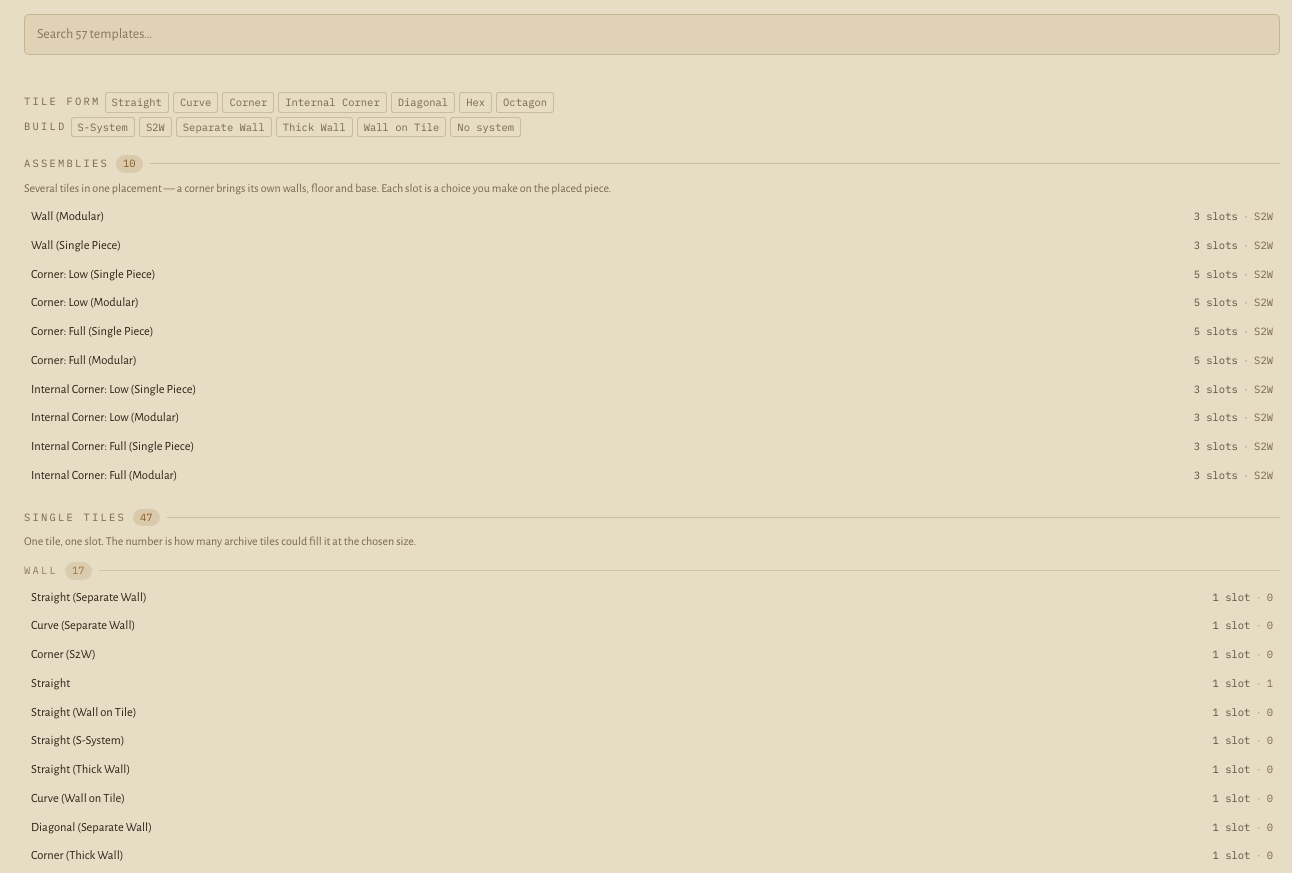
Test case: the palette › disarms when the armed row is pressed again
Click the button "Straight (Separate Wall) 1 slot 0".
click(89, 597)  # box [24, 584, 1280, 610]
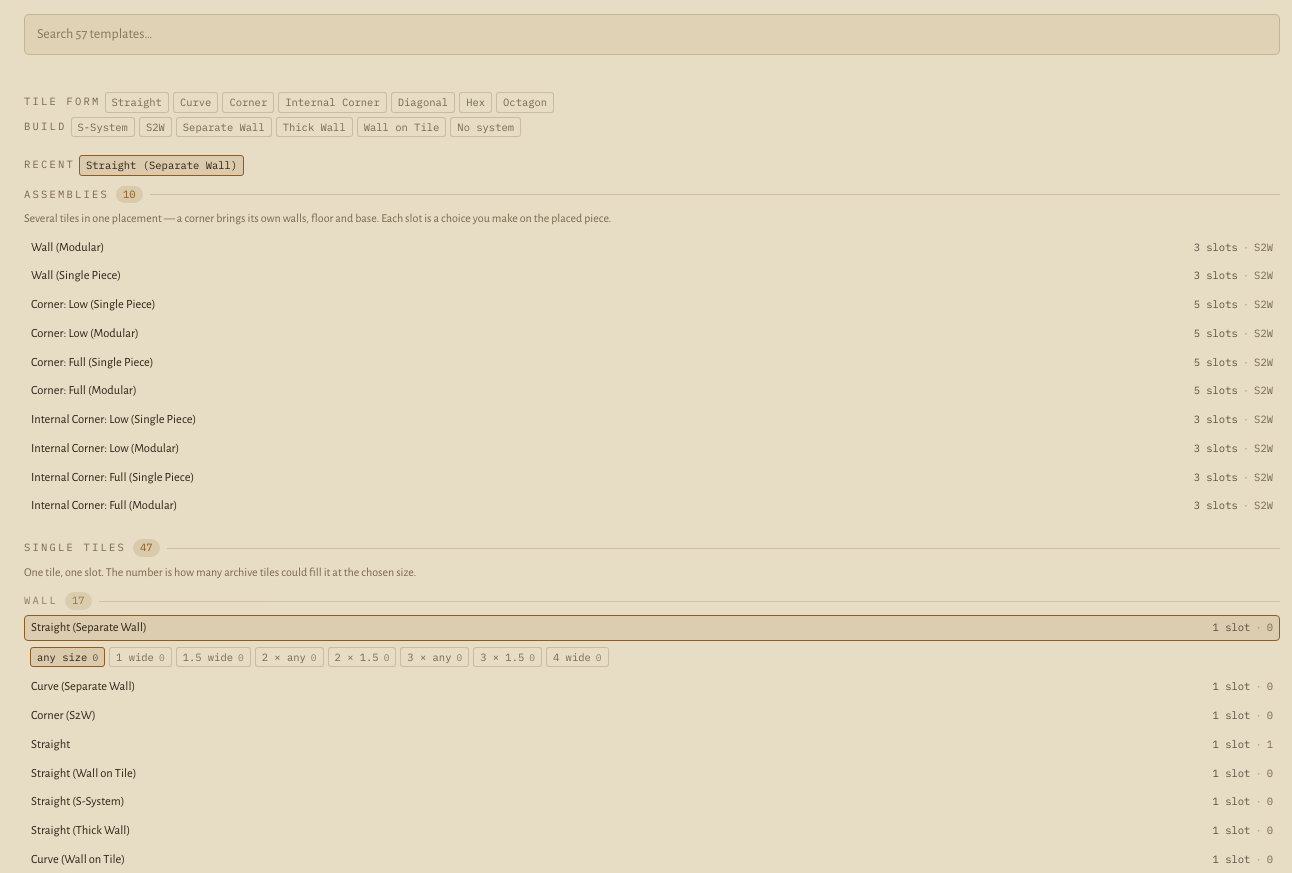
Click the button "Straight (Separate Wall) 1 slot 0".
click(89, 628)  # box [24, 615, 1280, 641]
(page scrolled)
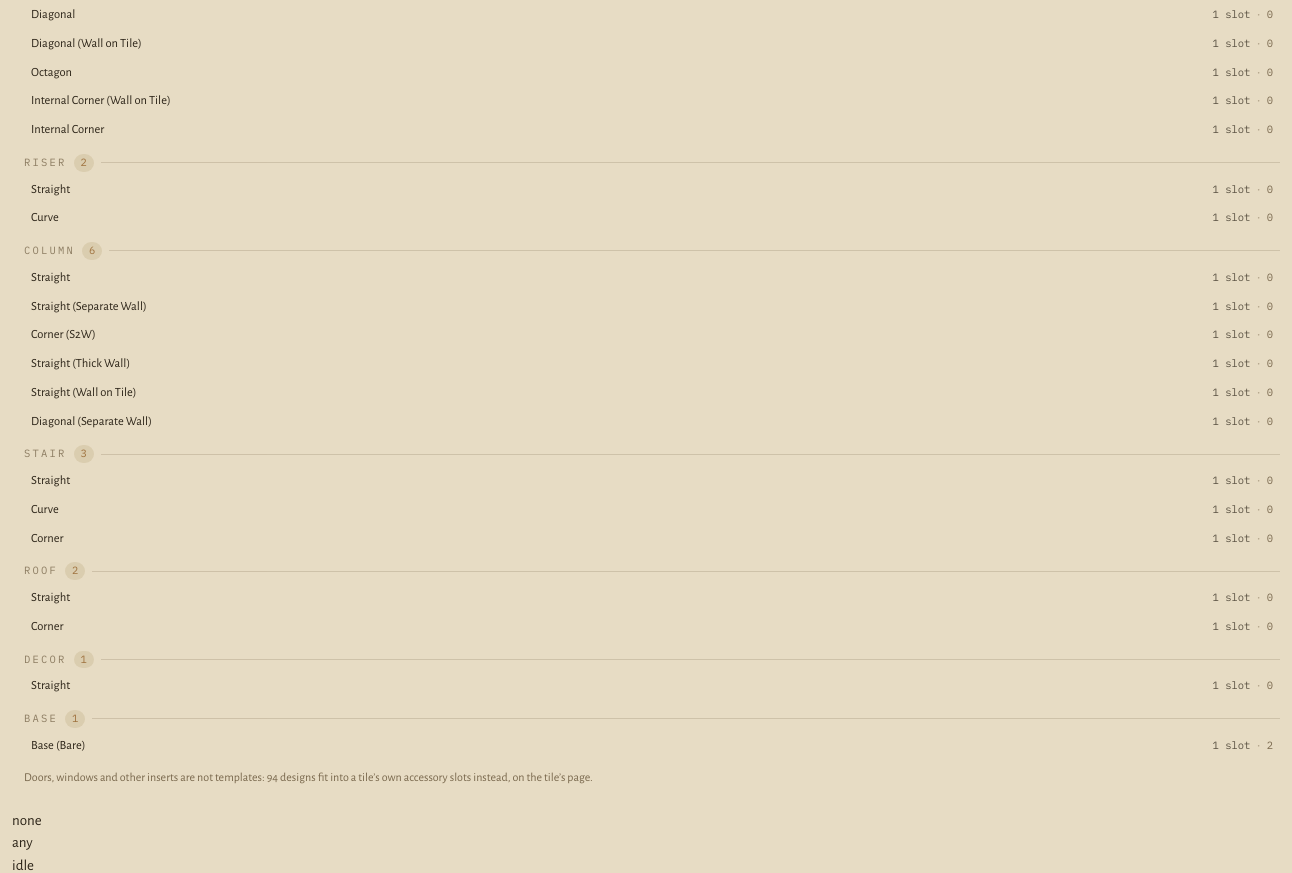
Expected: the text "none" is shown, [12, 813, 42, 828]
Expected: the text with test id "selected-template" reads "none", [12, 813, 42, 828]
